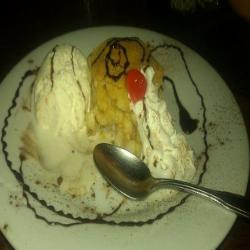chantilly: (131, 67, 202, 204)
icecream: (20, 40, 96, 141)
